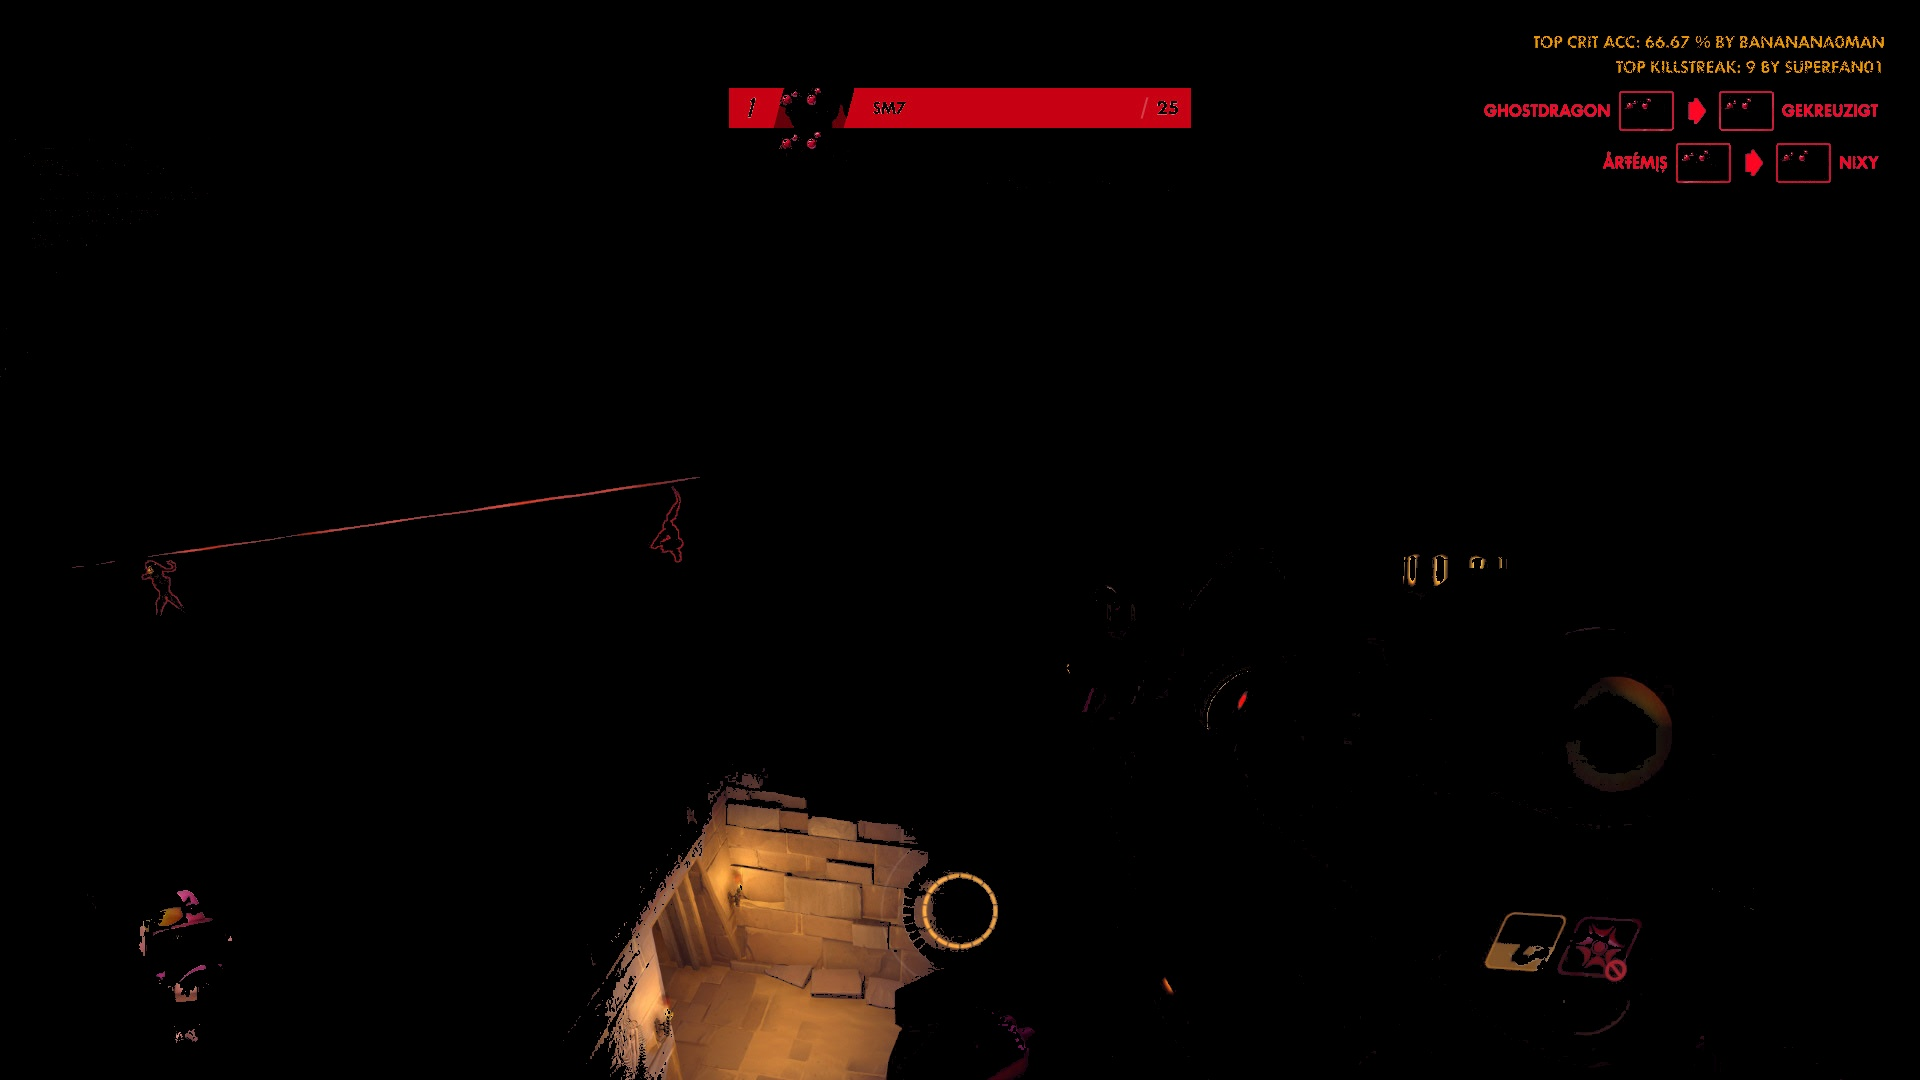widowmaker: (142, 560, 191, 625), (650, 518, 687, 564)
